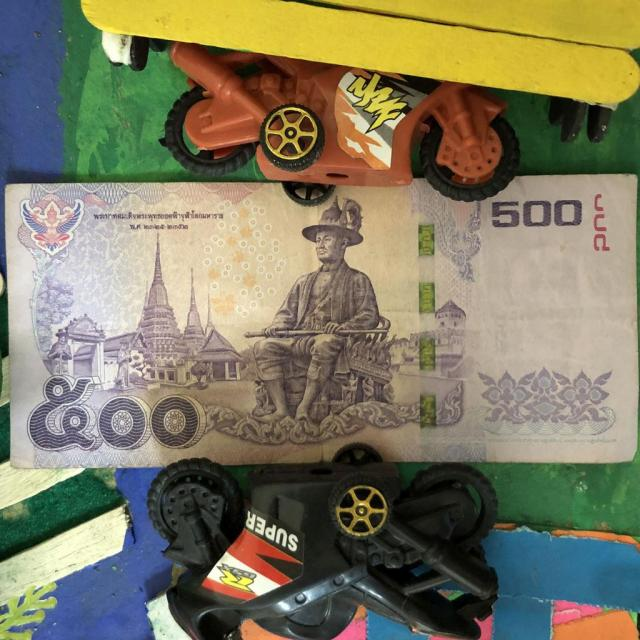THAI500: (4, 174, 639, 472)
